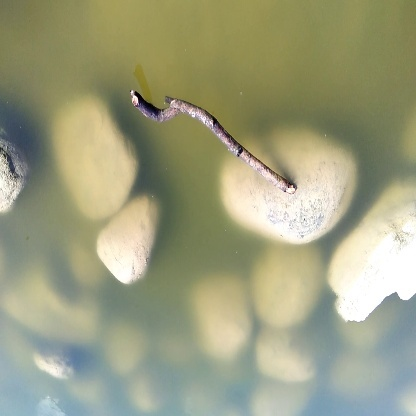branch: (129, 89, 298, 199)
